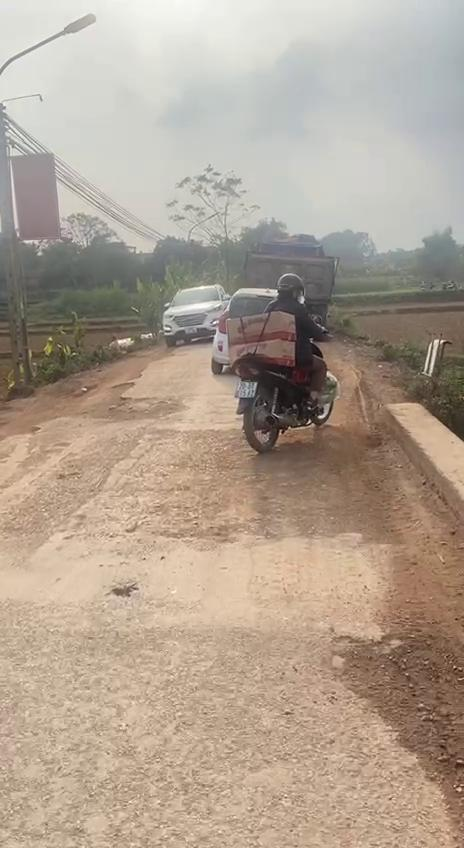pothole: (68, 381, 194, 422), (157, 518, 252, 550)
